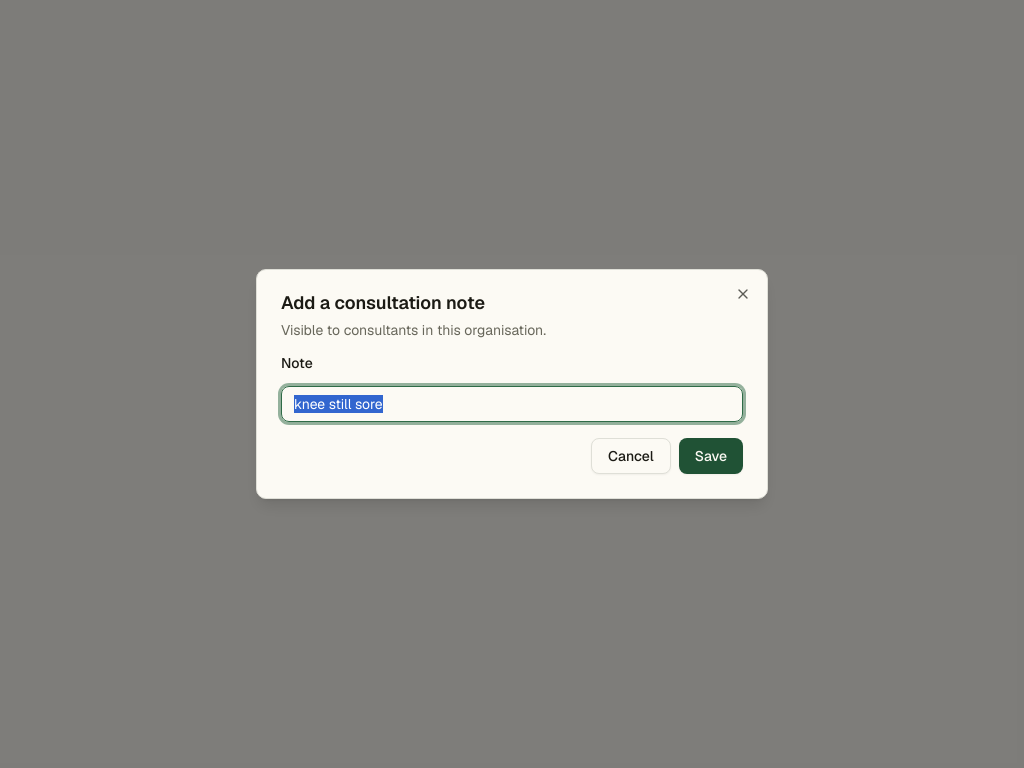
Scenario: FormDialog — failure › announces the error and keeps the dialog open with input intact
Click the button "Save": (711, 456) top-left (679, 438), bottom-right (743, 474)
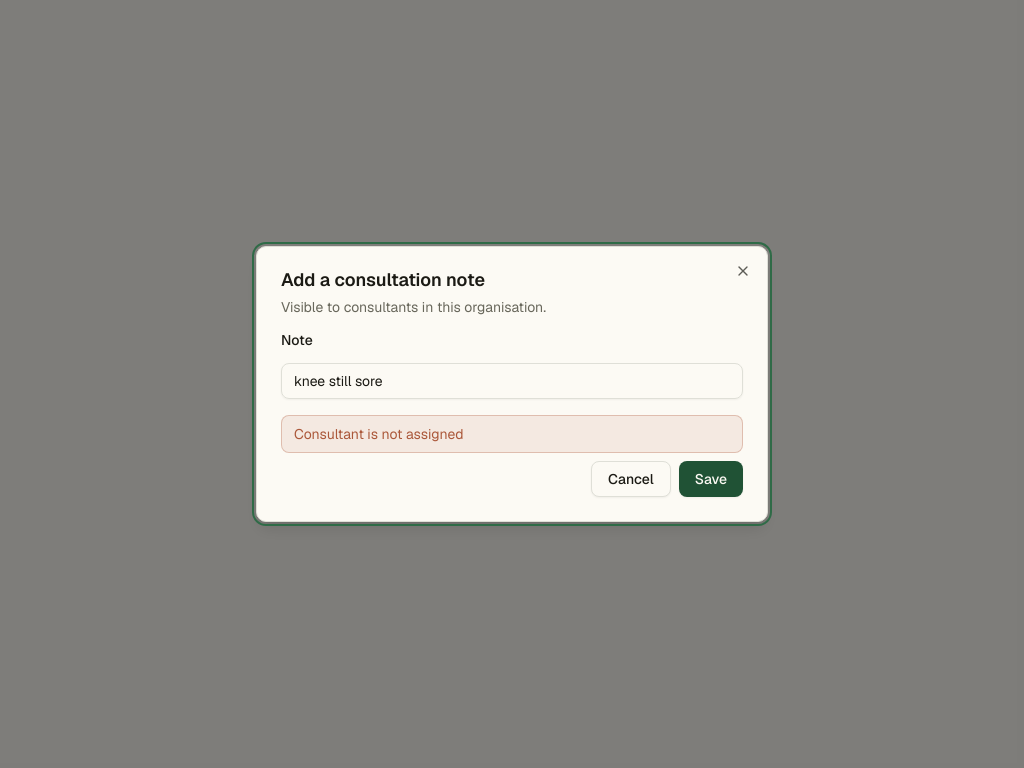
Expected: the dialog is shown, top-left (256, 246), bottom-right (768, 522)
Now the message reads "Consultant is not assigned", box top-left (294, 425), bottom-right (464, 443)
